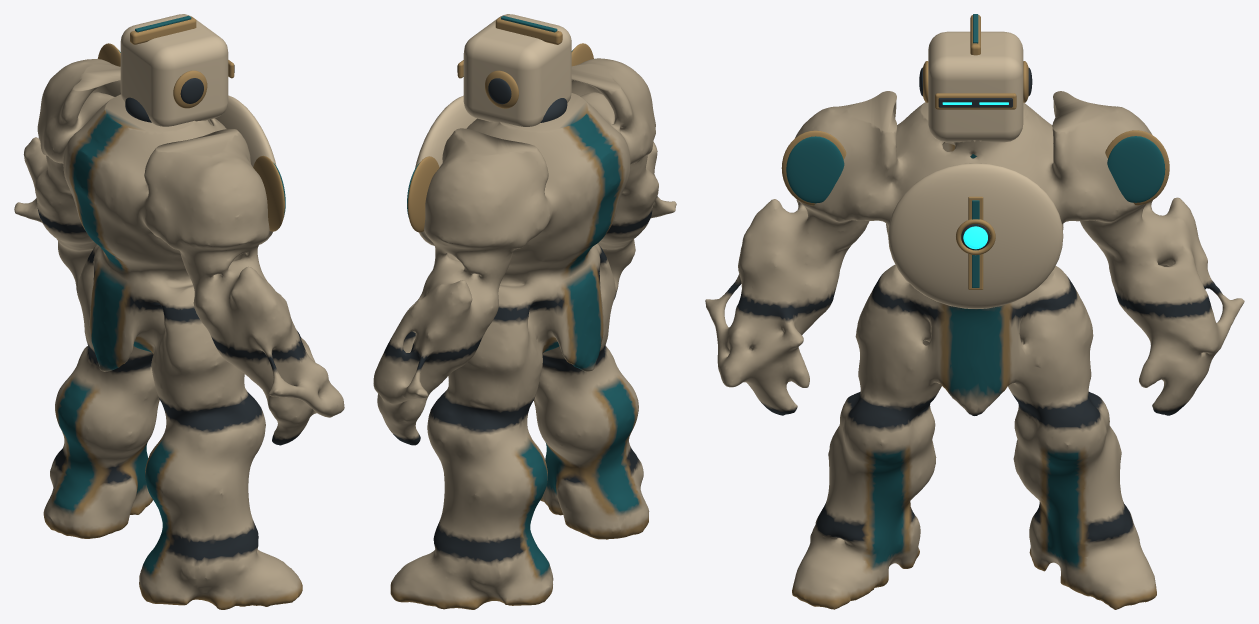
The model's file is relic-marshal-repaired-v4.glb.
3 views of the same model, side by side, from view 1: azimuth 30°, elevation 25°; view 2: azimuth 150°, elevation 25°; view 3: azimuth 270°, elevation 25° (orthographic). The views are drawn at different scales.
Visible parts, largest first — view 1: Relic_Marshal_Repaired, Rebuilt helmet, Rebuilt breastplate, Shoulder bronze medallion, Bronze helmet crest, Helmet ear coupling, Helmet ear inset; view 2: Relic_Marshal_Repaired, Rebuilt helmet, Rebuilt breastplate, Shoulder bronze medallion.001, Bronze helmet crest, Helmet ear coupling.001, Helmet ear inset.001; view 3: Relic_Marshal_Repaired, Rebuilt breastplate, Rebuilt helmet, Shoulder teal enamel, Shoulder teal enamel.001, Shoulder bronze medallion.001, Shoulder bronze medallion, Visor bronze surround.
Part boxes in pixels (x1,y1,x2,y2): Relic_Marshal_Repaired: (14,59,344,609); Rebuilt helmet: (120,14,228,126); Rebuilt breastplate: (215,95,276,244); Shoulder bronze medallion: (253,155,284,231); Bronze helmet crest: (130,17,196,44); Helmet ear coupling: (173,70,207,108); Helmet ear inset: (180,78,203,103); Relic_Marshal_Repaired: (373,58,676,609); Rebuilt helmet: (463,14,571,126); Rebuilt breastplate: (415,95,476,245); Shoulder bronze medallion.001: (407,156,439,232); Bronze helmet crest: (495,17,562,44); Helmet ear coupling.001: (485,70,518,108); Helmet ear inset.001: (488,78,511,104); Relic_Marshal_Repaired: (705,91,1244,609); Rebuilt breastplate: (888,163,1063,308); Rebuilt helmet: (928,31,1023,142); Shoulder teal enamel: (786,136,844,203); Shoulder teal enamel.001: (1107,136,1165,202); Shoulder bronze medallion.001: (1105,130,1169,205); Shoulder bronze medallion: (781,130,846,205); Visor bronze surround: (935,93,1016,109).
Bounding box in the file's own units: 0.7192 × 2.02 × 1.78.
